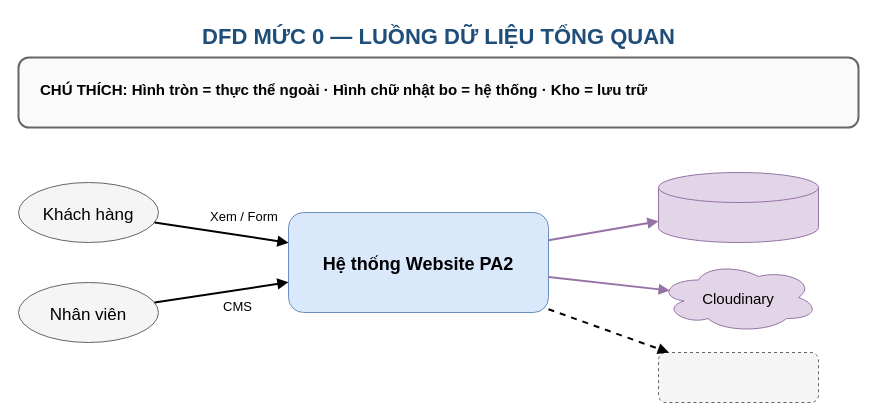
Image size: 876x420. Some labels were removed from this diagram. Each missing label, with the box of its shape:
Gmail SMTP: (658, 352, 818, 402)
PostgreSQL: (658, 172, 818, 242)
